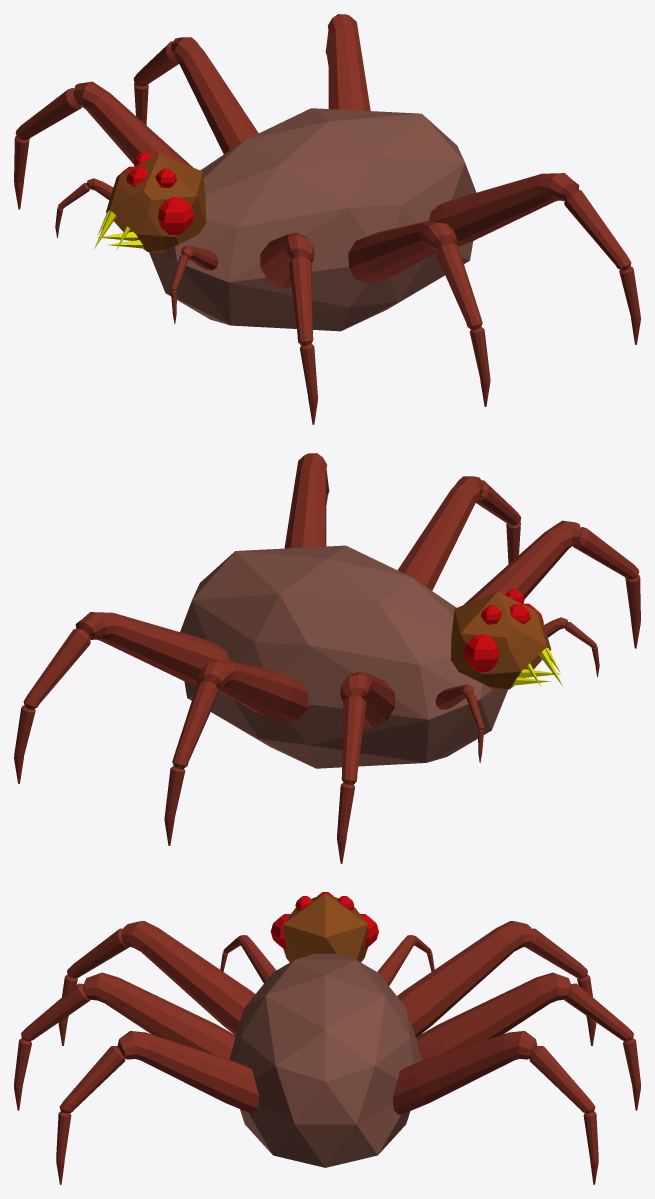
File: lp_alienCrawler(WithMaterials).fbx
The picture shows the model from 3 angles, top to bottom: view 1: azimuth 30°, elevation 25°; view 2: azimuth 150°, elevation 25°; view 3: azimuth 270°, elevation 25°; orthographic projection. The views are drawn at different scales.
Parts seen in each view (by area): view 1: Body, Head, BackLeftLeg1, BackLeftLeg1.001, BackLeftLeg1.006, BackLeftLeg1.005, BackLeftLeg1.007, BackLeftLeg1.002, BackLeftLeg2, BackLeftLeg2.003, BackLeftLeg2.004, BackLeftLeg2.011 (+8 smaller); view 2: Body, Head, BackLeftLeg1.007, BackLeftLeg1.006, BackLeftLeg1.001, BackLeftLeg1.002, BackLeftLeg1, BackLeftLeg1.005, BackLeftLeg2.015, BackLeftLeg2.012, BackLeftLeg2.011, BackLeftLeg2.004 (+8 smaller); view 3: Body, BackLeftLeg1.005, BackLeftLeg1.002, BackLeftLeg1.007, BackLeftLeg1.006, BackLeftLeg1, BackLeftLeg1.001, Head, BackLeftLeg2.015, BackLeftLeg2, BackLeftLeg2.012, BackLeftLeg2.003 (+9 smaller).
Boxes of the visible parts, x1=… form: Body: x1=149, y1=108, x2=476, y2=331; Head: x1=106, y1=154, x2=206, y2=253; BackLeftLeg1: x1=429, y1=173, x2=579, y2=246; BackLeftLeg1.001: x1=348, y1=220, x2=457, y2=283; BackLeftLeg1.006: x1=171, y1=37, x2=258, y2=153; BackLeftLeg1.005: x1=73, y1=81, x2=192, y2=167; BackLeftLeg1.007: x1=328, y1=14, x2=370, y2=110; BackLeftLeg1.002: x1=260, y1=232, x2=314, y2=288; BackLeftLeg2: x1=564, y1=189, x2=631, y2=270; BackLeftLeg2.003: x1=436, y1=242, x2=482, y2=329; BackLeftLeg2.004: x1=288, y1=255, x2=313, y2=345; BackLeftLeg2.011: x1=15, y1=88, x2=81, y2=140; Body: x1=180, y1=545, x2=507, y2=768; Head: x1=450, y1=591, x2=551, y2=690; BackLeftLeg1.007: x1=75, y1=612, x2=228, y2=691; BackLeftLeg1.006: x1=197, y1=659, x2=308, y2=722; BackLeftLeg1.001: x1=397, y1=476, x2=483, y2=590; BackLeftLeg1.002: x1=463, y1=520, x2=581, y2=605; BackLeftLeg1: x1=284, y1=453, x2=326, y2=548; BackLeftLeg1.005: x1=340, y1=671, x2=394, y2=728; BackLeftLeg2.015: x1=23, y1=628, x2=90, y2=709; BackLeftLeg2.012: x1=172, y1=681, x2=218, y2=768; BackLeftLeg2.011: x1=341, y1=694, x2=366, y2=784; BackLeftLeg2.004: x1=573, y1=527, x2=639, y2=579; Body: x1=229, y1=953, x2=421, y2=1167; BackLeftLeg1.005: x1=397, y1=921, x2=533, y2=1036; BackLeftLeg1.002: x1=121, y1=921, x2=255, y2=1034; BackLeftLeg1.007: x1=393, y1=1031, x2=537, y2=1114; BackLeftLeg1.006: x1=416, y1=972, x2=571, y2=1060; BackLeftLeg1: x1=117, y1=1031, x2=259, y2=1113; BackLeftLeg1.001: x1=83, y1=972, x2=235, y2=1059; Head: x1=282, y1=893, x2=368, y2=962; BackLeftLeg2.015: x1=529, y1=1046, x2=595, y2=1113; BackLeftLeg2: x1=59, y1=1046, x2=125, y2=1113; BackLeftLeg2.012: x1=564, y1=983, x2=633, y2=1041; BackLeftLeg2.003: x1=21, y1=983, x2=90, y2=1041.
Bounding box in the file's own units: 416 × 209 × 629.
